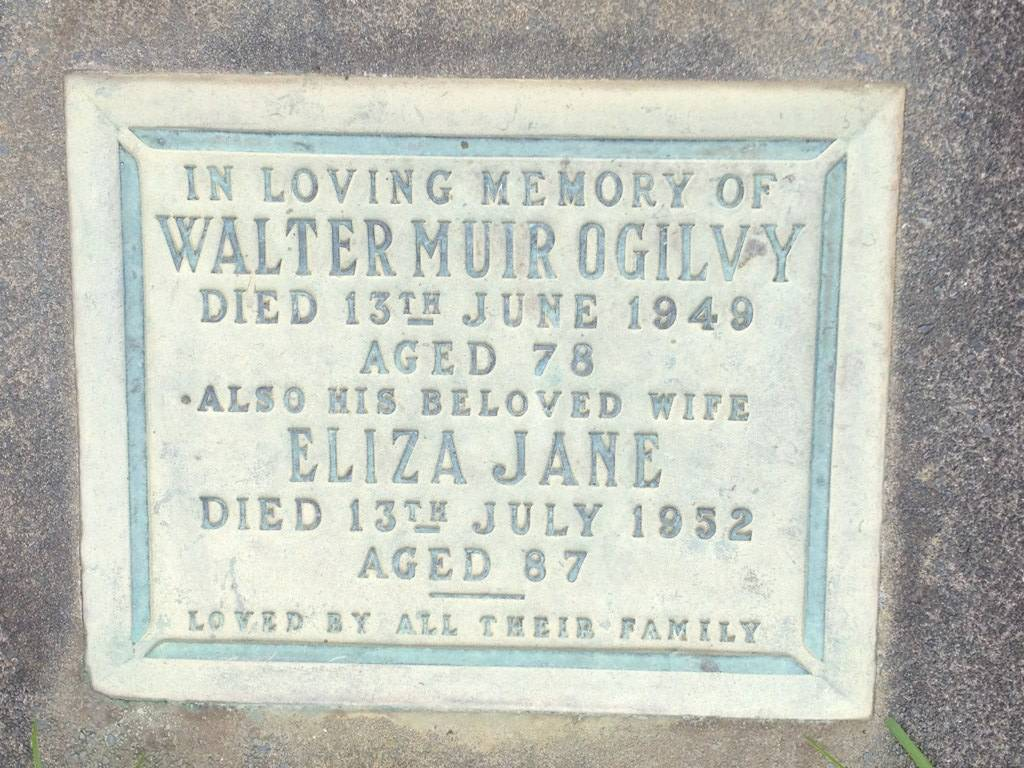flat: (47, 47, 913, 732)
